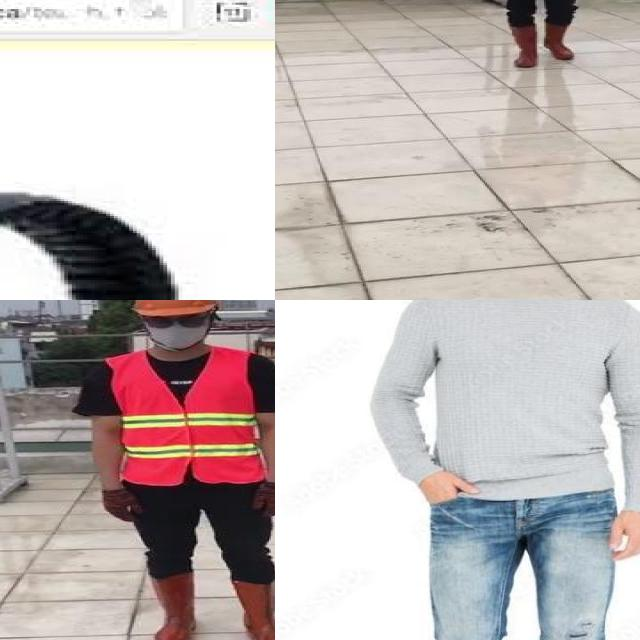boots: (146, 574, 196, 640), (231, 577, 275, 640), (507, 21, 542, 68), (540, 21, 578, 61)
face_mask: (142, 310, 213, 350)
glasses: (144, 307, 210, 332)
hand_glove: (100, 488, 143, 522), (253, 482, 275, 517)
hand_noglove: (403, 463, 487, 510), (600, 493, 640, 567)
head_helmet: (126, 300, 220, 319)
person: (367, 300, 640, 640), (79, 300, 275, 640), (466, 0, 598, 74)
vest: (111, 349, 265, 486)
